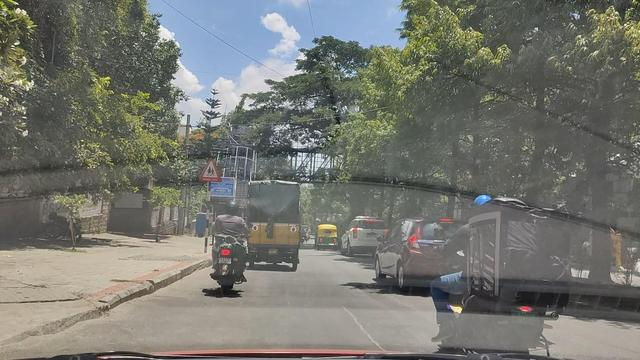HMV: (242, 177, 305, 272)
LMV: (415, 178, 618, 360)
RoadDamages: (311, 295, 393, 353)
